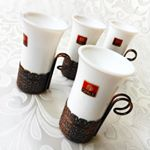cups: (65, 44, 137, 123)
